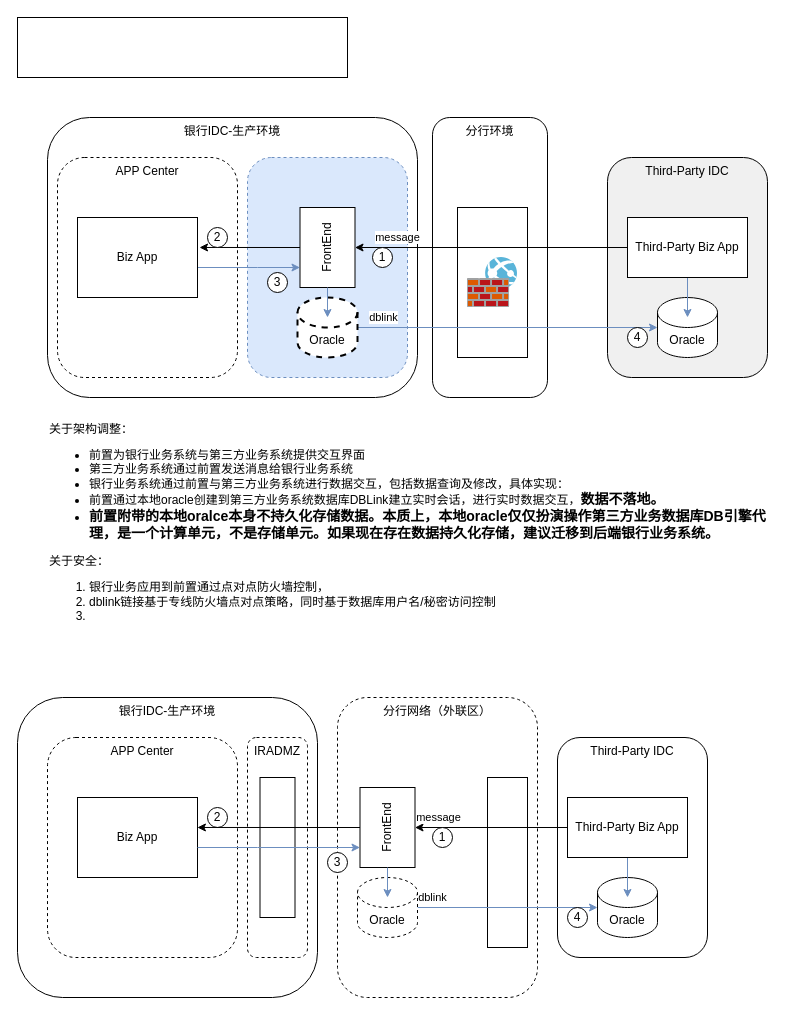
Some shapes in this 785 by 1015 pixel diagram are drawn without their labels. Here are the shapes that lost their labels. From the top down, the box of each, then its label:
(16, 16, 348, 78): Interaction with DBLink
(246, 156, 408, 378): Ex-DMZ
(456, 206, 528, 358): Firewall with NAT
(259, 776, 295, 918): SLB
(486, 776, 528, 948): 外联防火墙/NAT
